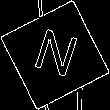N_S: (28, 25, 82, 85)
